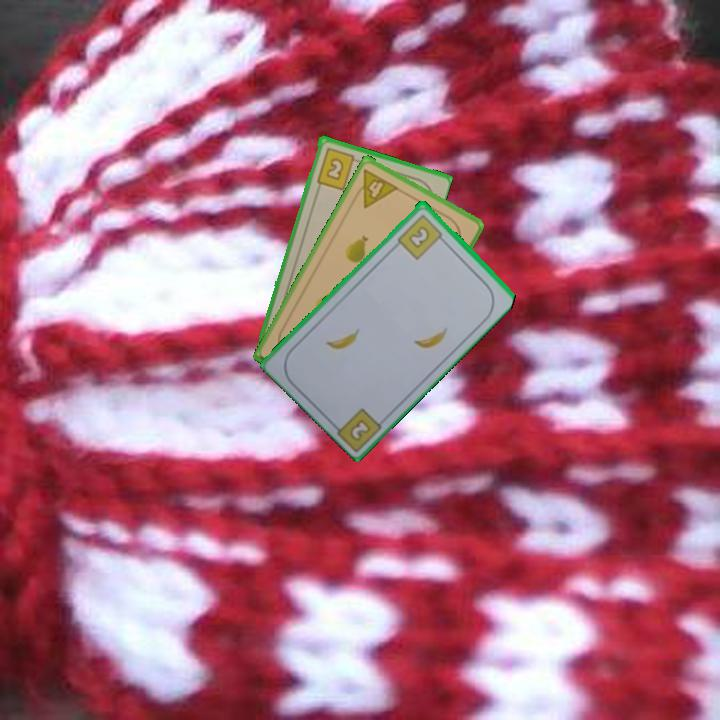2b: (394, 210, 448, 262), (313, 144, 363, 192), (346, 415, 374, 444)
4p: (349, 165, 401, 210)
